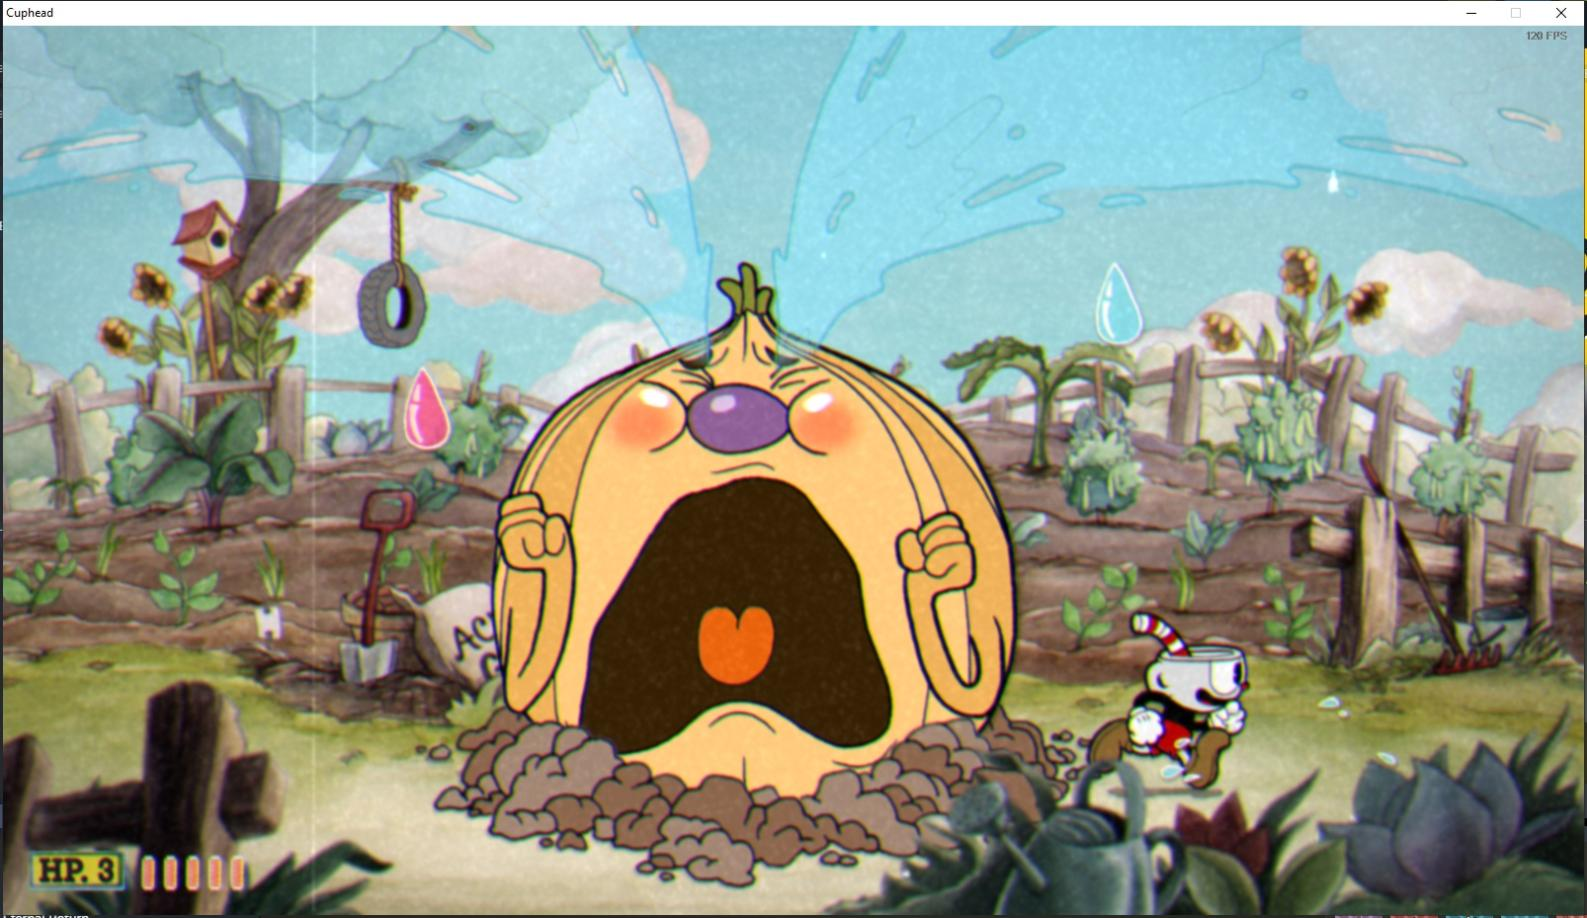hp3: (90, 854, 123, 888)
onion_boss: (490, 265, 1025, 829)
pink_rain: (399, 366, 459, 454)
player: (1084, 608, 1256, 795)
rain: (1088, 259, 1154, 354)
